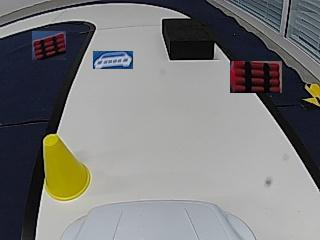block: (161, 17, 214, 59)
cone: (43, 134, 91, 199)
